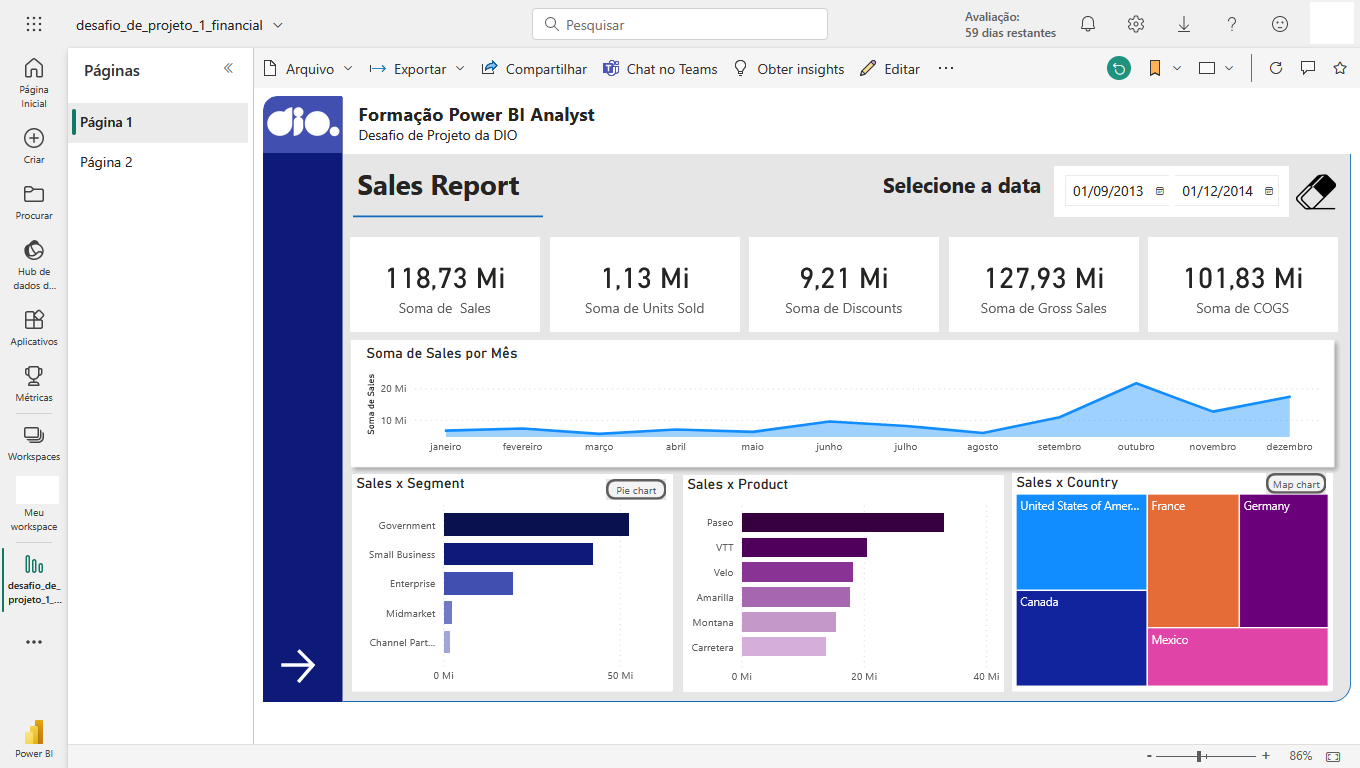

The page's visual inventory and layout, read from the dashboard file:
{"tool":"powerbi","page":{"name":"Página 1","canvas":[1280,720],"ordinal":0},"visuals":[{"type":"shape","box":[10,10,1259.1,700.1],"z":0},{"type":"image","title":"img_eraser","box":[1197.4,92.9,62.9,55.7],"z":0,"group":"g4"},{"type":"shape","box":[115,131.6,220,33.3],"z":0,"group":"g5"},{"type":"shape","box":[110.7,172.6,220,110],"z":0,"group":"g1"},{"type":"treemap","title":"Sales x Country","fields":{"Group":["financials.Country"],"Values":["Sum(financials. Sales)"]},"box":[877.8,445.7,371.4,251.4],"z":0,"group":"g2"},{"type":"shape","box":[10.4,10.4,92.3,700.1],"z":1000},{"type":"textbox","box":[115,83.3,251.7,65],"z":1000,"group":"g5"},{"type":"textbox","box":[712.9,90,212.9,58.6],"z":1000,"group":"g4"},{"type":"shape","box":[572.4,172.6,220,110],"z":1000,"group":"g1"},{"type":"clusteredBarChart","title":"Sales x Segment","fields":{"Y":["Sum(financials. Sales)"],"Category":["financials.Segment"]},"box":[113.8,447.5,371.2,251.2],"z":1250,"group":"g3"},{"type":"shape","box":[10,9.7,91.8,66.1],"z":2000},{"type":"slicer","fields":{"Values":["financials.Date"]},"box":[925.8,90,271.4,58.6],"z":2000,"group":"g4"},{"type":"shape","box":[342.4,172.6,220,110],"z":2000,"group":"g1"},{"type":"actionButton","title":"btn_pie","box":[408.2,452.7,70,24],"z":2000,"group":"g3"},{"type":"shape","box":[102.4,10,1167,66.4],"z":3000},{"type":"shape","box":[1034,172.6,220,110],"z":3000,"group":"g1"},{"type":"actionButton","title":"btn_map","box":[1172.1,445.9,70,24],"z":3000,"group":"g2"},{"type":"image","title":"img_dio","box":[10,10,94.3,60],"z":4000},{"type":"shape","box":[804,172.6,220,110],"z":4000,"group":"g1"},{"type":"textbox","box":[115.7,10,624.3,62.9],"z":5000},{"type":"card","fields":{"Values":["Sum(financials.COGS)"]},"box":[1033.8,172.5,220,110],"z":5000,"group":"g1"},{"type":"group","id":"g1","title":"Cartões","box":[110.7,172.2,1143.3,110.4],"z":6000},{"type":"card","fields":{"Values":["Sum(financials. Sales)"]},"box":[111.1,172.2,220,110],"z":6000,"group":"g1"},{"type":"card","fields":{"Values":["Sum(financials.Units Sold)"]},"box":[342.3,172.2,220,110],"z":7000,"group":"g1"},{"type":"shape","box":[102.7,282.1,1156.4,165.4],"z":7000},{"type":"card","fields":{"Values":["Sum(financials.Discounts)"]},"box":[572.5,172.5,220,110],"z":8000,"group":"g1"},{"type":"card","fields":{"Values":["Sum(financials.Gross Sales)"]},"box":[804.3,172.9,220,110],"z":8000},{"type":"shape","box":[113.2,447.6,370.9,250.8],"z":8000},{"type":"shape","box":[877.7,447.6,370.9,250.8],"z":9000},{"type":"shape","box":[496.3,447.6,370.9,250.8],"z":10000},{"type":"areaChart","fields":{"Category":["financials.Date.Variation.Hierarquia de datas.Mês"],"Y":["Sum(financials. Sales)"]},"box":[125.4,296.1,1114.6,135.8],"z":11000},{"type":"clusteredBarChart","title":"Sales x Product","fields":{"Y":["Sum(financials. Sales)"],"Category":["financials.Product"]},"box":[496.2,447.5,371.2,251.2],"z":12000},{"type":"actionButton","box":[25.9,644.3,74.3,50],"z":12500},{"type":"group","id":"g2","title":"Sales x país","box":[877.8,445.6,371.1,252.2],"z":13000},{"type":"group","id":"g3","title":"Sales x segmento","box":[113.8,447.1,371.3,251.6],"z":14000},{"type":"group","id":"g4","title":"Filtro por data","box":[712.9,90,547.3,58.6],"z":15000},{"type":"group","id":"g5","title":"Title report","box":[115,83.3,251.7,81.7],"z":16000}]}

Visuals, with their boxes on the page's 1280x720 design canvas (x1, y1, x2, y2). These are canvas units, not pixel positions in the 1360x768 screenshot, which may show the page scaled, cropped or inside an application window:
shape: x1=10, y1=10, x2=1269, y2=710
"img_eraser" image: x1=1197, y1=93, x2=1260, y2=149
shape: x1=115, y1=132, x2=335, y2=165
shape: x1=111, y1=173, x2=331, y2=283
"Sales x Country" treemap: x1=878, y1=446, x2=1249, y2=697
shape: x1=10, y1=10, x2=103, y2=710
textbox: x1=115, y1=83, x2=367, y2=148
textbox: x1=713, y1=90, x2=926, y2=149
shape: x1=572, y1=173, x2=792, y2=283
"Sales x Segment" clusteredBarChart: x1=114, y1=448, x2=485, y2=699
shape: x1=10, y1=10, x2=102, y2=76
slicer - financials.Date: x1=926, y1=90, x2=1197, y2=149
shape: x1=342, y1=173, x2=562, y2=283
"btn_pie" actionButton: x1=408, y1=453, x2=478, y2=477
shape: x1=102, y1=10, x2=1269, y2=76
shape: x1=1034, y1=173, x2=1254, y2=283
"btn_map" actionButton: x1=1172, y1=446, x2=1242, y2=470
"img_dio" image: x1=10, y1=10, x2=104, y2=70
shape: x1=804, y1=173, x2=1024, y2=283
textbox: x1=116, y1=10, x2=740, y2=73
card - Sum(financials.COGS): x1=1034, y1=172, x2=1254, y2=282
"Cartões" group: x1=111, y1=172, x2=1254, y2=283
card - Sum(financials. Sales): x1=111, y1=172, x2=331, y2=282
card - Sum(financials.Units Sold): x1=342, y1=172, x2=562, y2=282
shape: x1=103, y1=282, x2=1259, y2=448
card - Sum(financials.Discounts): x1=572, y1=172, x2=792, y2=282
card - Sum(financials.Gross Sales): x1=804, y1=173, x2=1024, y2=283
shape: x1=113, y1=448, x2=484, y2=698
shape: x1=878, y1=448, x2=1249, y2=698
shape: x1=496, y1=448, x2=867, y2=698
areaChart - financials.Date.Variation.Hierarquia de datas.Mês x Sum(financials. Sales): x1=125, y1=296, x2=1240, y2=432
"Sales x Product" clusteredBarChart: x1=496, y1=448, x2=867, y2=699
actionButton: x1=26, y1=644, x2=100, y2=694
"Sales x país" group: x1=878, y1=446, x2=1249, y2=698
"Sales x segmento" group: x1=114, y1=447, x2=485, y2=699
"Filtro por data" group: x1=713, y1=90, x2=1260, y2=149
"Title report" group: x1=115, y1=83, x2=367, y2=165
